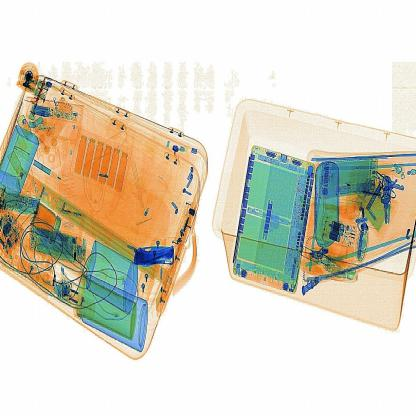knife: (130, 240, 182, 271)
